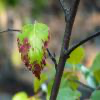Apple Scab Leaf: (16, 17, 54, 84)
